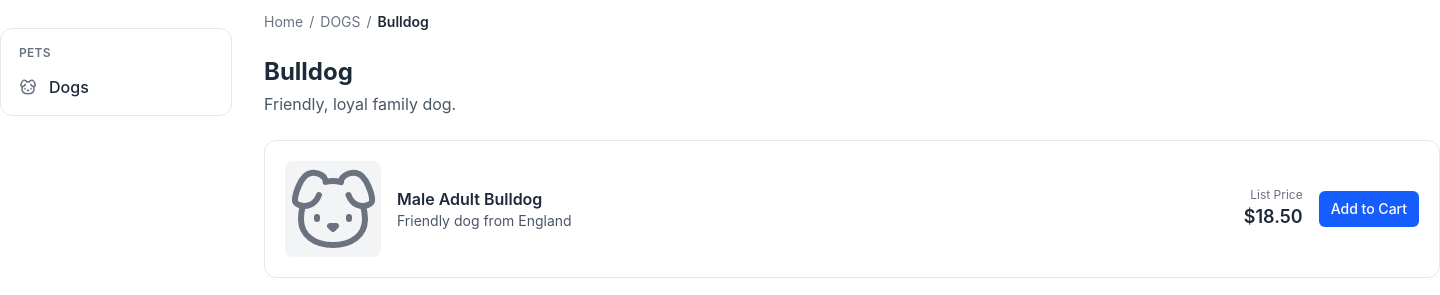
ProductPage › posts the item id to /api/cart/items and shows a confirmation when Add to Cart is activated
Click the button "Add to Cart" at (1369, 209), box [1319,191,1419,227]
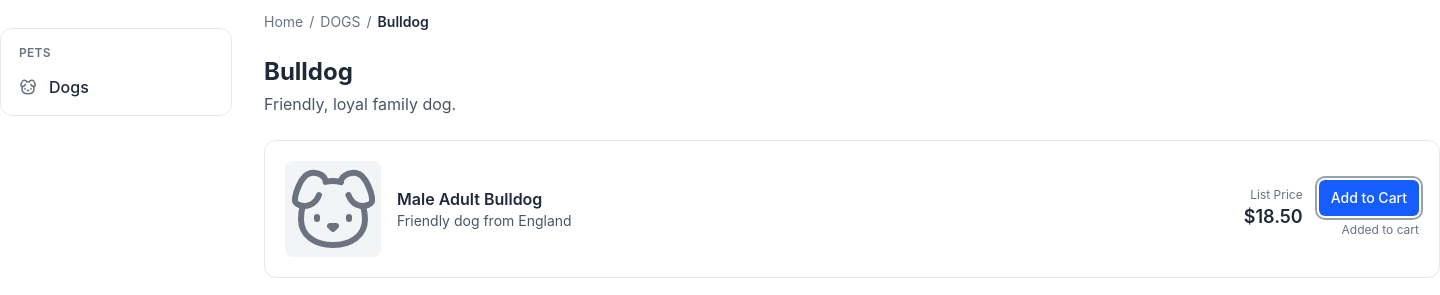
Check: the text "Added to cart" is shown, box [1342,222,1419,238]
